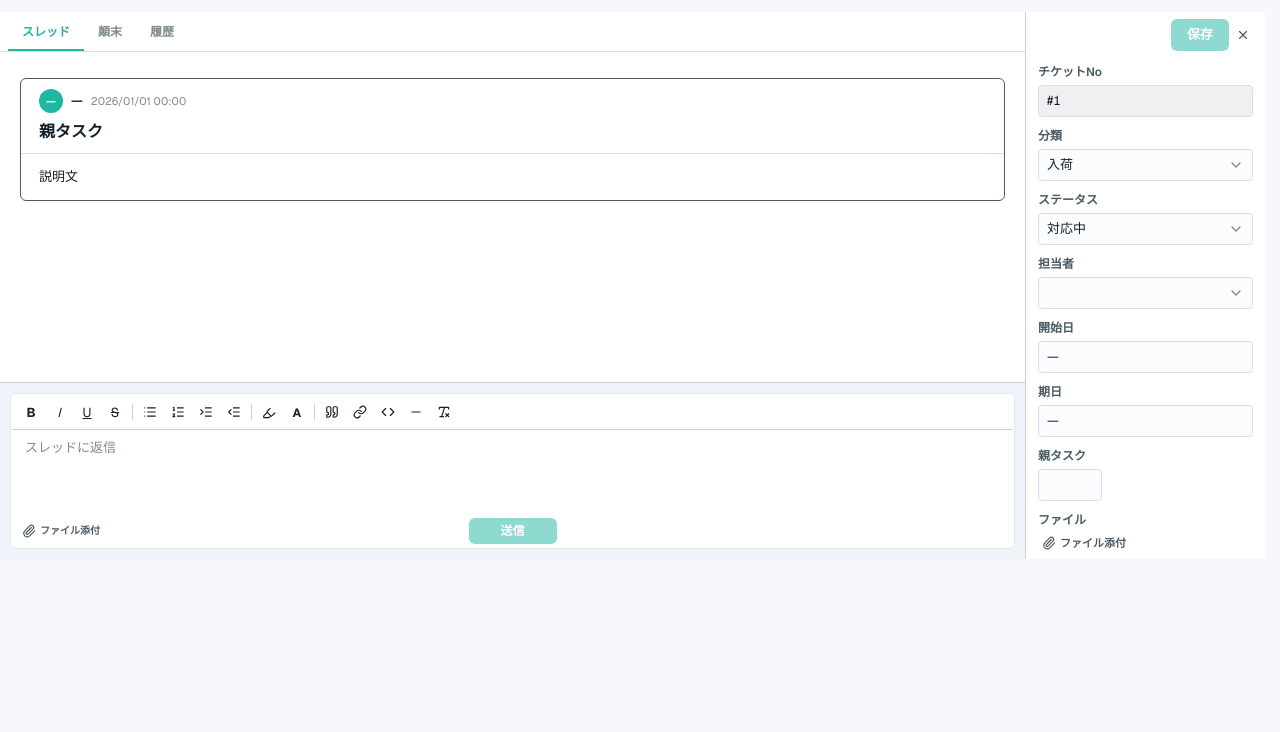
Test case: TaskDetailOverlay — 担当者 Account 割当（rete-desk-0062） › accounts 指定時は担当者を select で描画し候補を出すこと
The width and height of the screenshot is (1280, 732).
# trigger クリックで選択肢を開き、option role で候補と空 option（割当解除）を確認。
What coordinates should you click on to do the following:
click the button named "担当者"
I would click on:
 (1146, 293)
Its box is 1038,277 -> 1253,309.
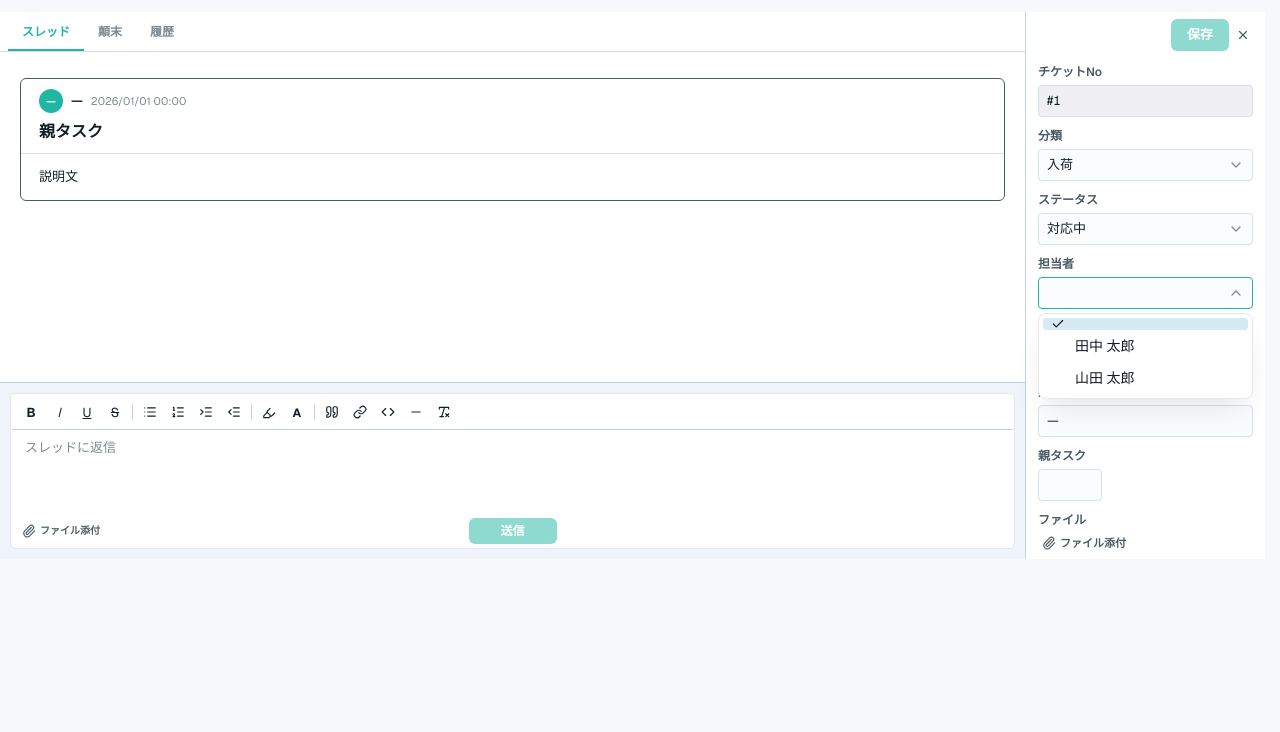
Expected: the option "田中 太郎" is shown, 1075,337 -> 1134,355
Expected: the option "山田 太郎" is shown, 1075,369 -> 1134,387
Expected: the 1st option is shown, 1043,318 -> 1248,330
